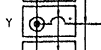Single Phase Tap-Off Unit: (20, 3, 79, 38)
